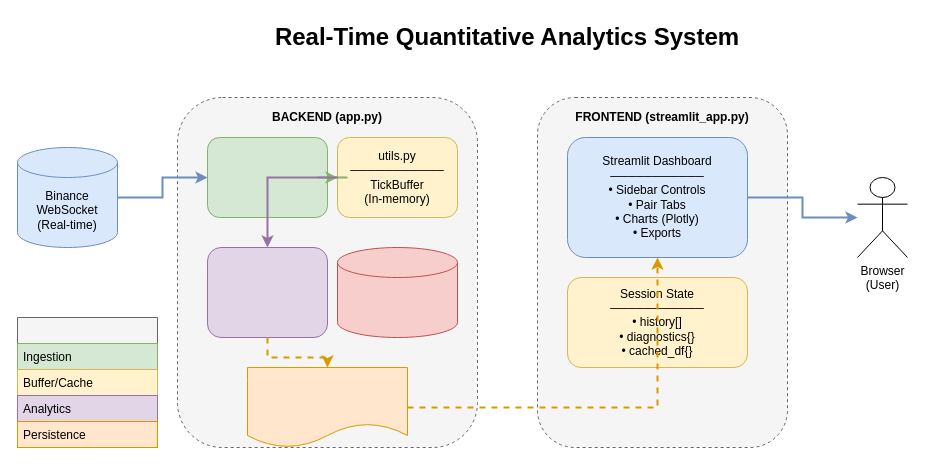
This 925x465 diagram has some shape labels left out. The shapes that lost their labels are listed below. From the top down, each one's box as (x1, y1, x2, y2) in pixels, then its label:
(206, 136, 328, 218): ingest.py ─────────── BinanceIngestor IngestionManager
(206, 246, 328, 338): analytics.py ─────────── AnalyticsEngine ADF Test Half-Life
(336, 246, 458, 338): storage.py ─────────── DuckDB (Optional)
(16, 316, 158, 448): Legend
(246, 366, 408, 448): data/*.json ─────────── control.json analytics_state.json analytics_history.json
